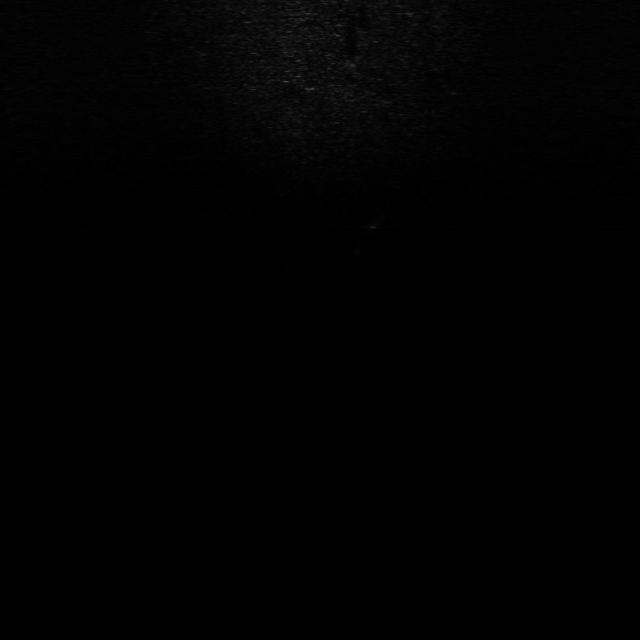human body: (346, 208, 392, 261)
